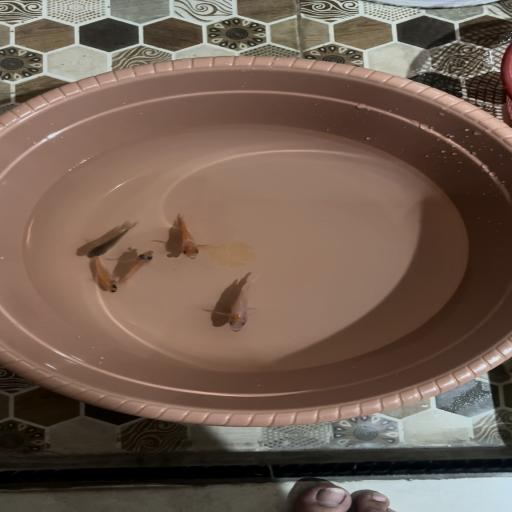nila: (212, 271, 274, 334), (84, 222, 138, 259), (170, 214, 206, 263), (84, 256, 122, 296), (117, 248, 156, 285)
